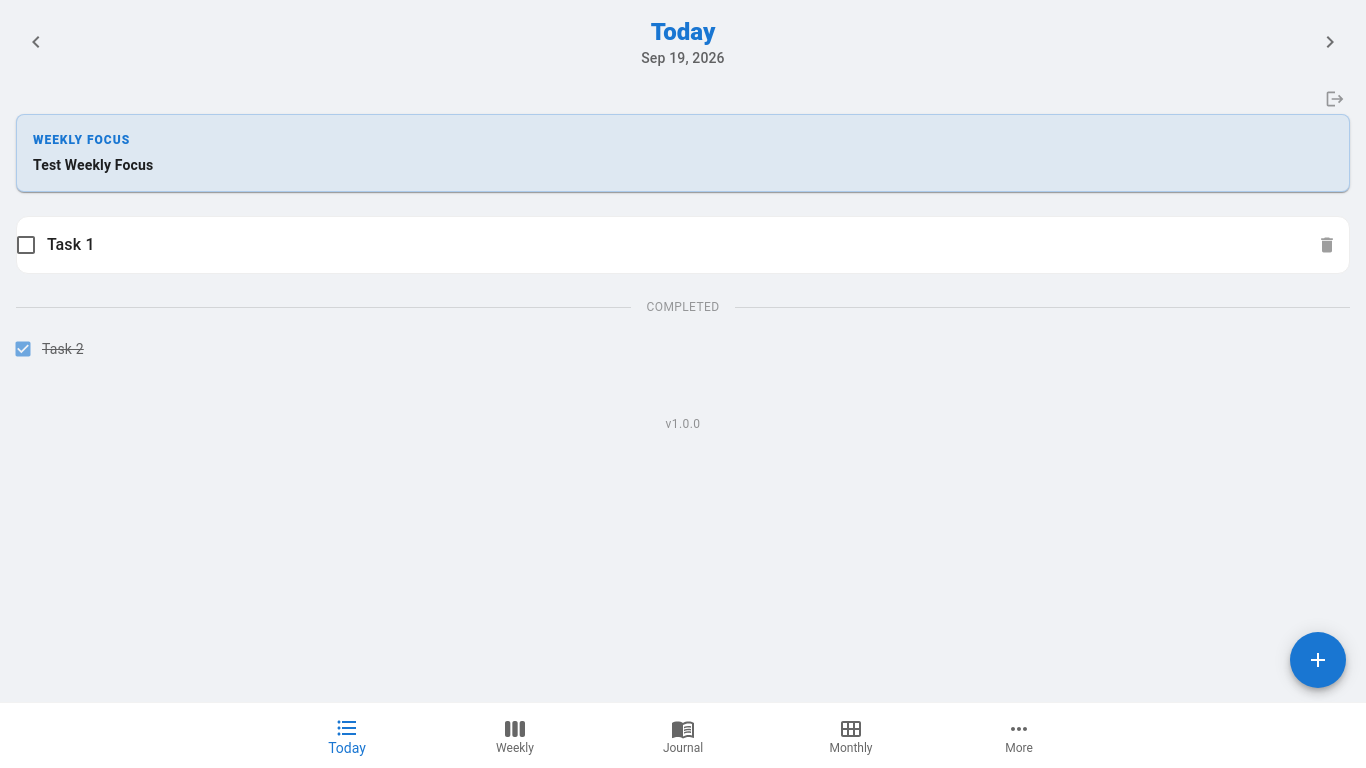
Test: MobileApp Component › navigates to Weekly view and shows Monthly Focus
The width and height of the screenshot is (1366, 768).
What coordinates should you click on to do the following:
click the button "Weekly"
I would click on:
 (515, 736)
Its box is [431, 703, 599, 767].
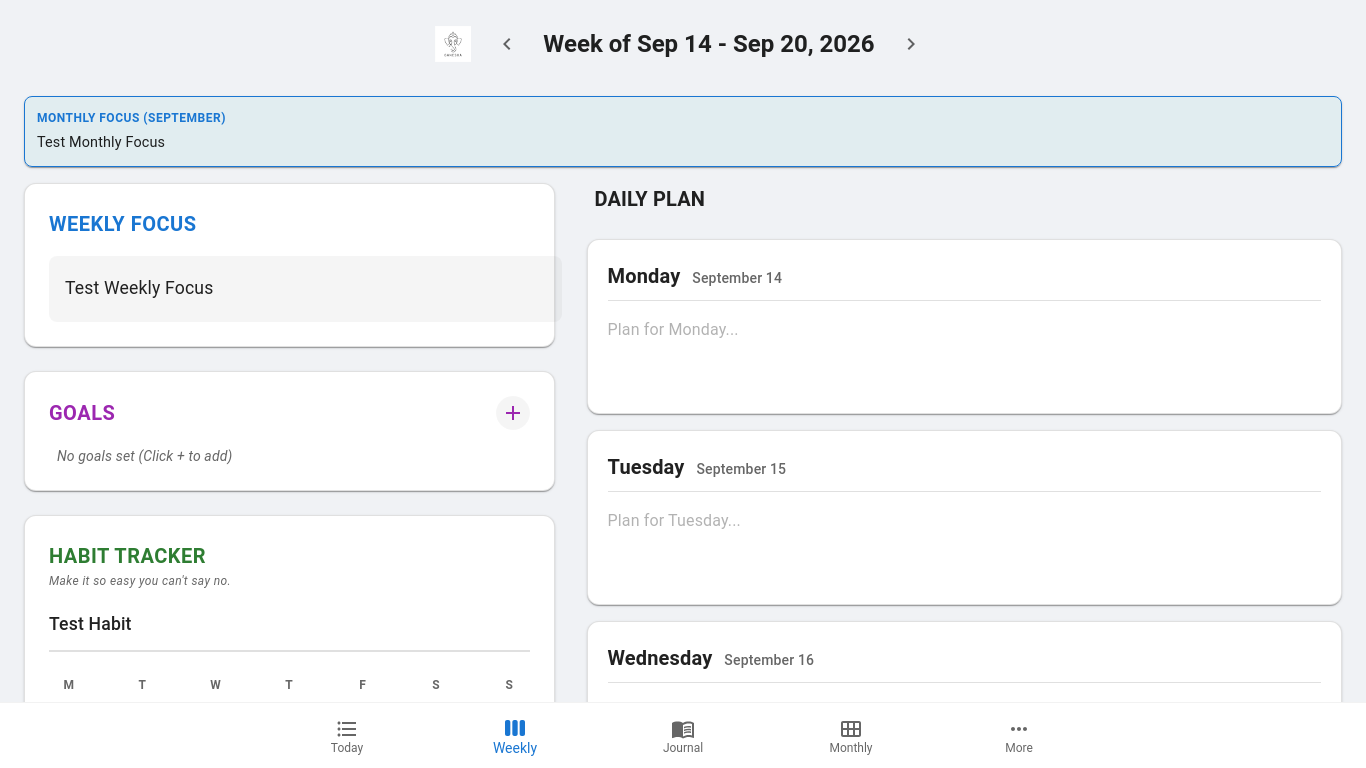
Check: the heading "Week of Sep 14 - Sep 20, 2026" is shown, box [543, 30, 875, 58]
Check: the text "MONTHLY FOCUS (September)" is shown, box [37, 111, 226, 125]
Check: the text "Test Monthly Focus" is shown, box [37, 134, 165, 151]
